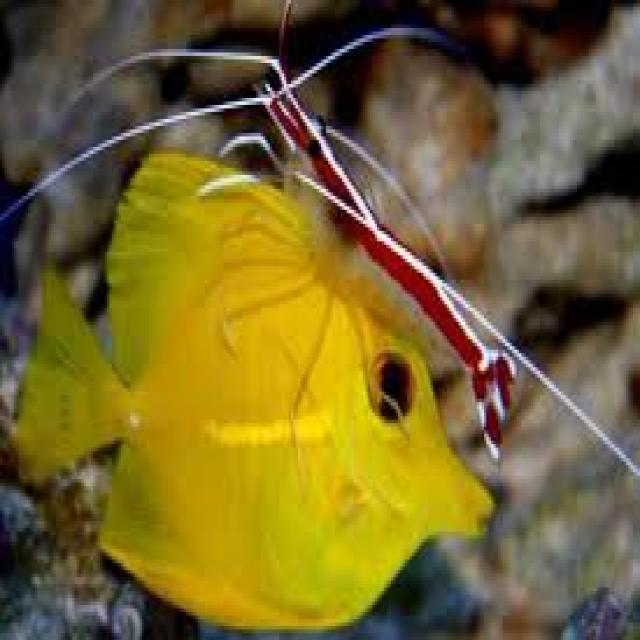TangFish: (10, 143, 494, 640)
